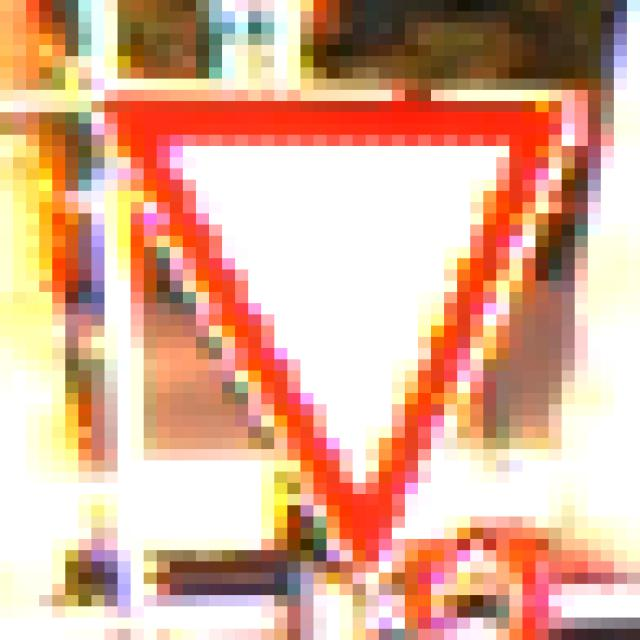Give Way: (79, 68, 576, 585)
